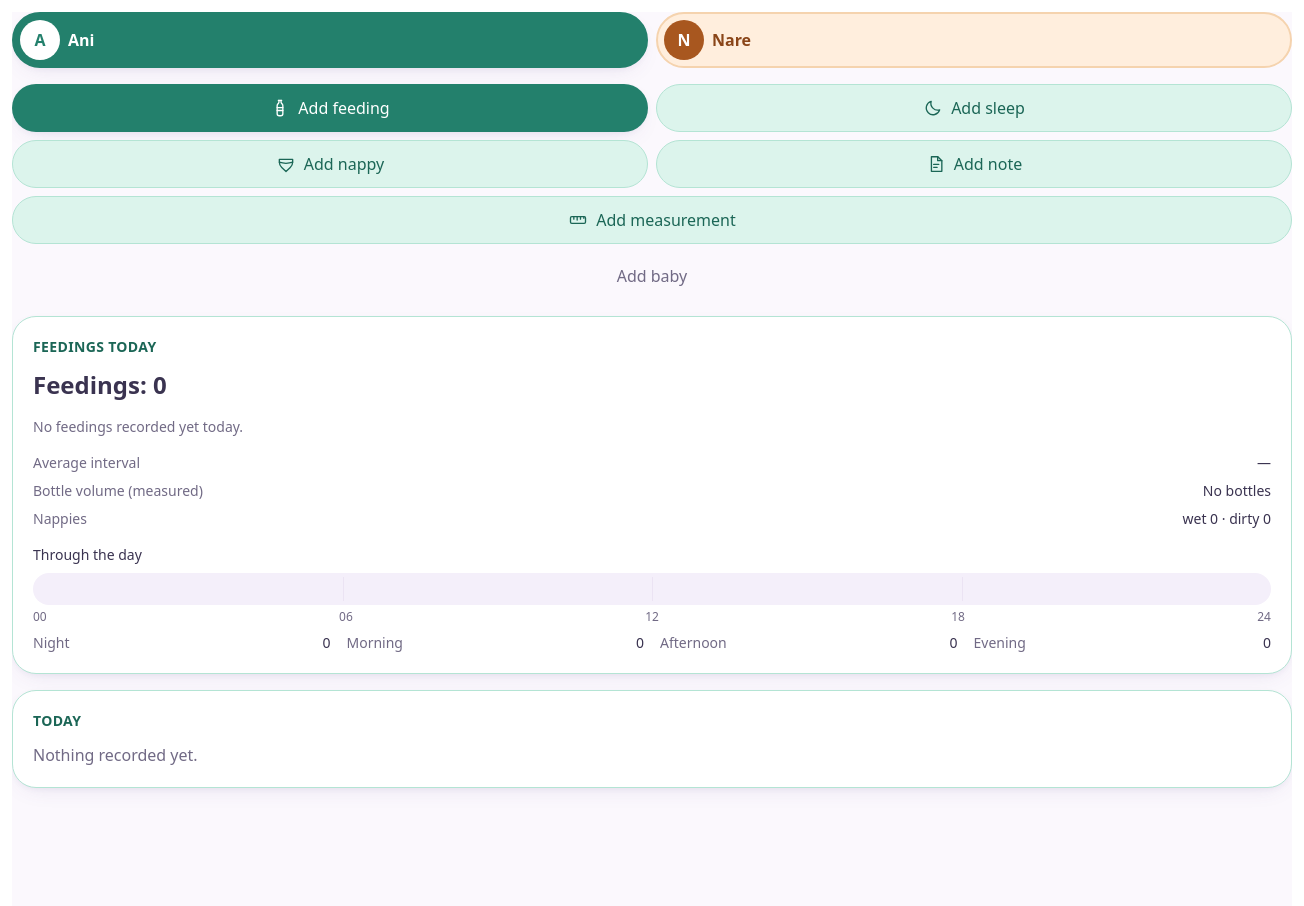
adding a sleep › requires an end time before anything is sent
Click the button "Add sleep" at coordinates (974, 108), box left=656, top=84, right=1292, bottom=132
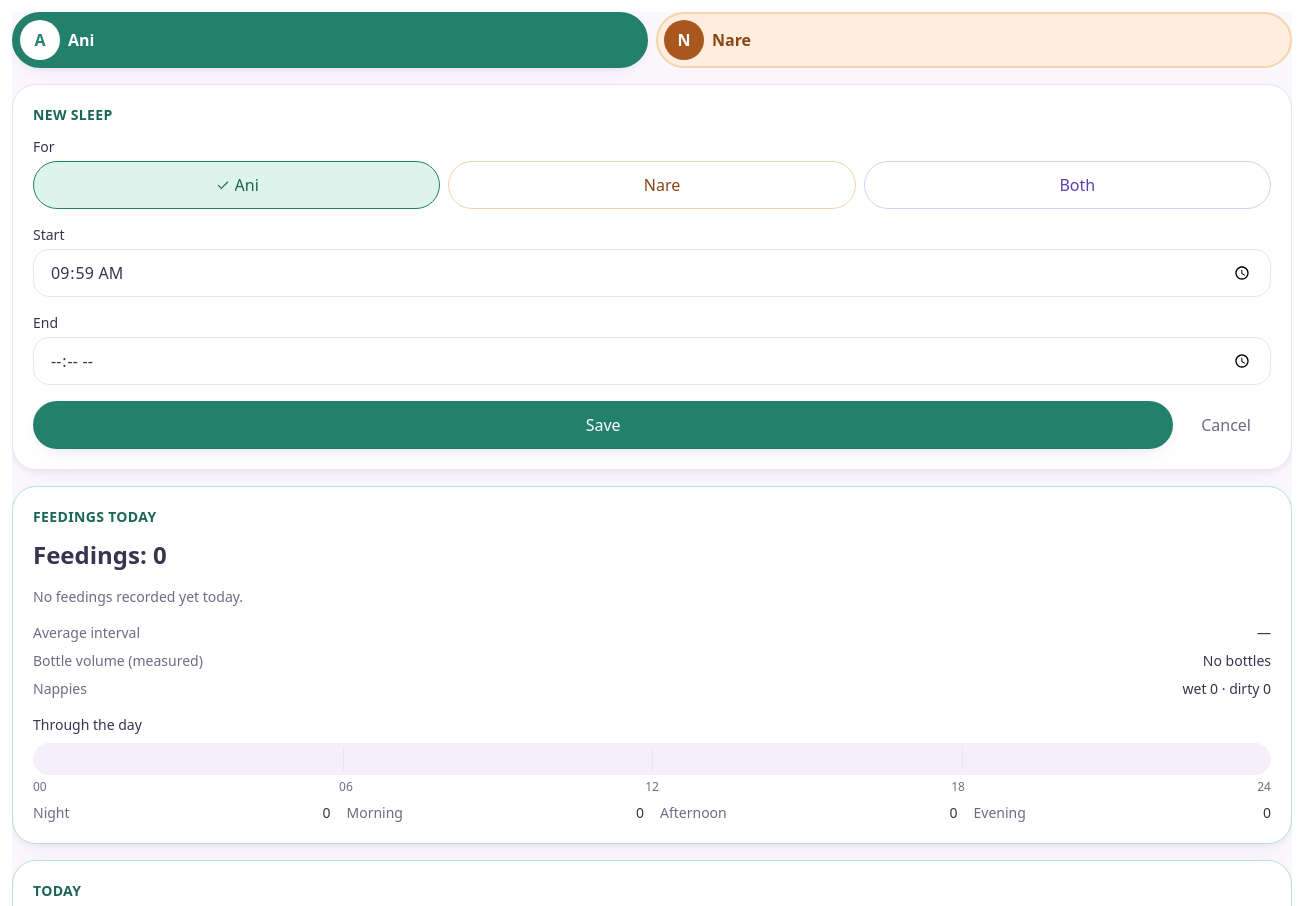
Click the button "Save" at coordinates (603, 425), box left=33, top=401, right=1173, bottom=449
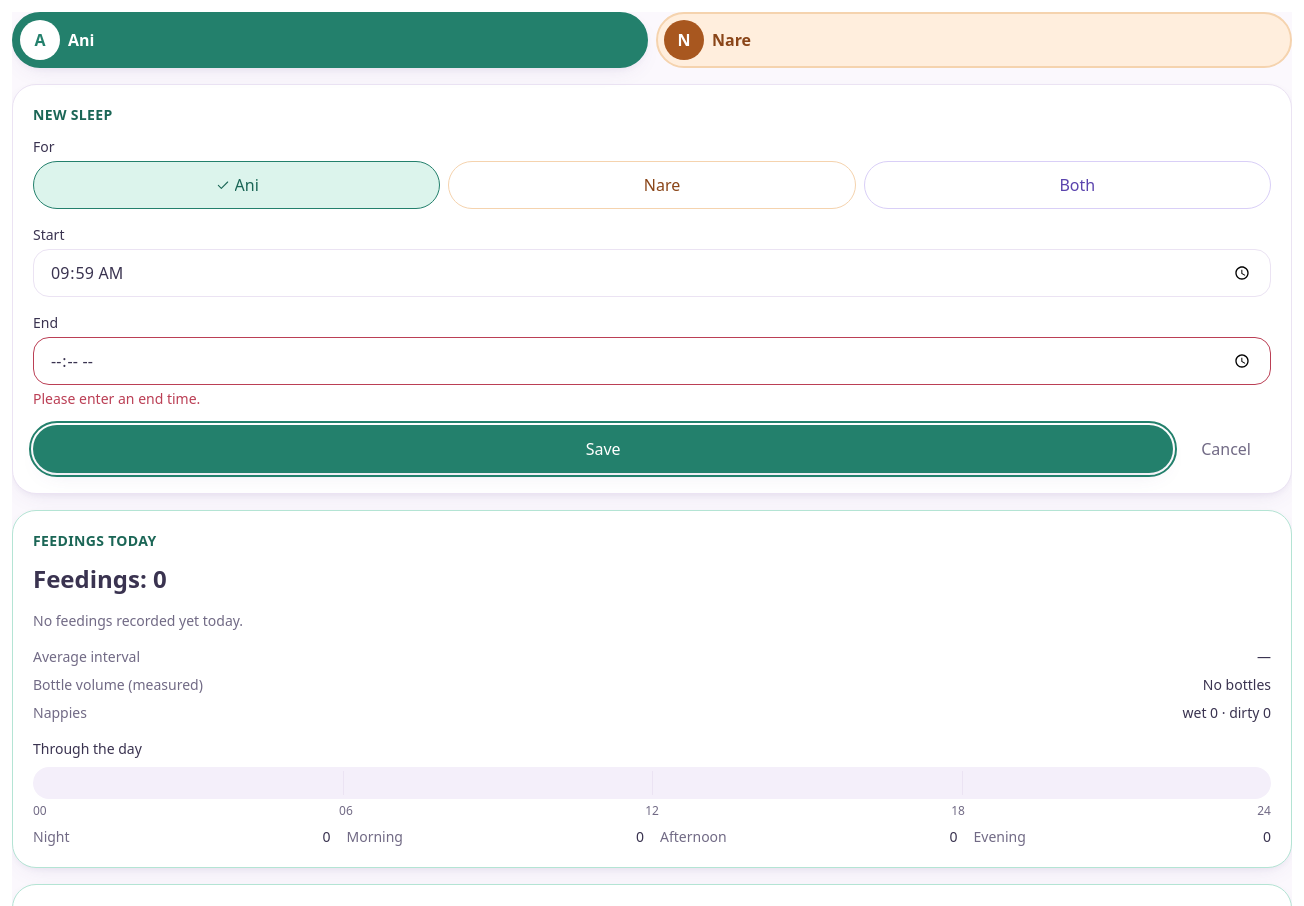
Expected: the time field labelled "End" is shown, left=33, top=337, right=1271, bottom=385
Expected: the text "Please enter an end time." is shown, left=33, top=389, right=200, bottom=408
